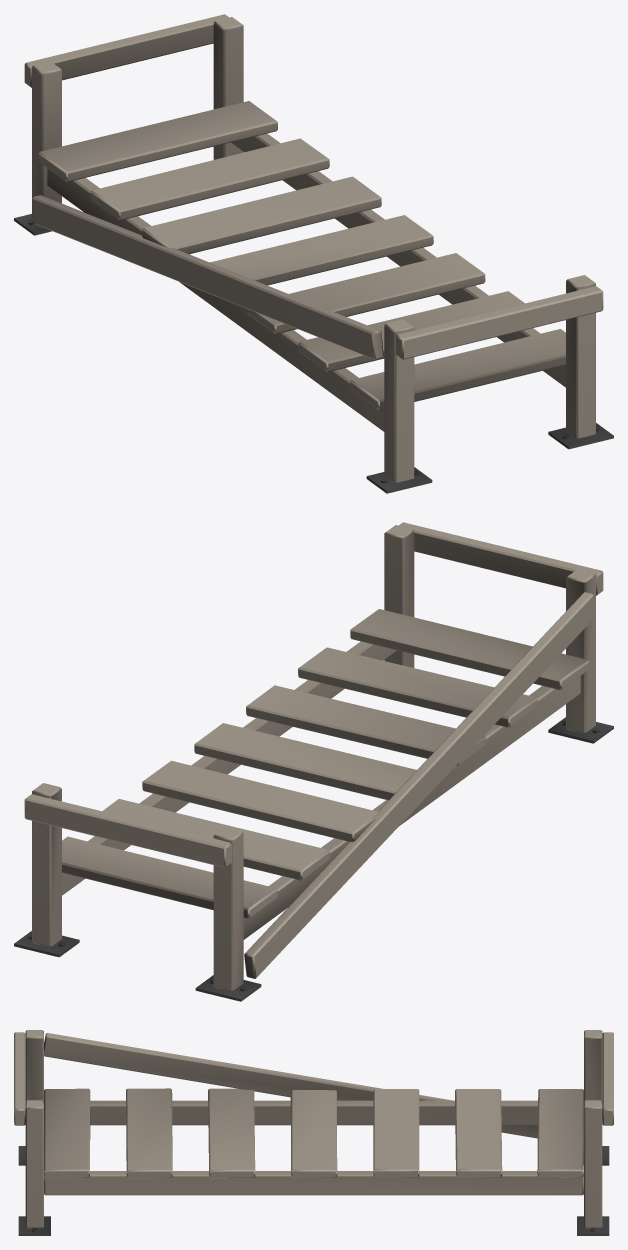
The model's file is stash_rack.glb.
The picture shows the model from 3 angles, top to bottom: view 1: azimuth 30°, elevation 25°; view 2: azimuth 150°, elevation 25°; view 3: azimuth 270°, elevation 25°; orthographic projection. The views are drawn at different scales.
Visible parts, largest first — view 1: static; view 2: static; view 3: static.
Part boxes in pixels (x1=…): static: x1=14, y1=14, x2=613, y2=493; static: x1=14, y1=522, x2=613, y2=1001; static: x1=14, y1=1030, x2=613, y2=1235.
Bounding box in the file's own units: 0.45 × 0.295 × 1.3.
